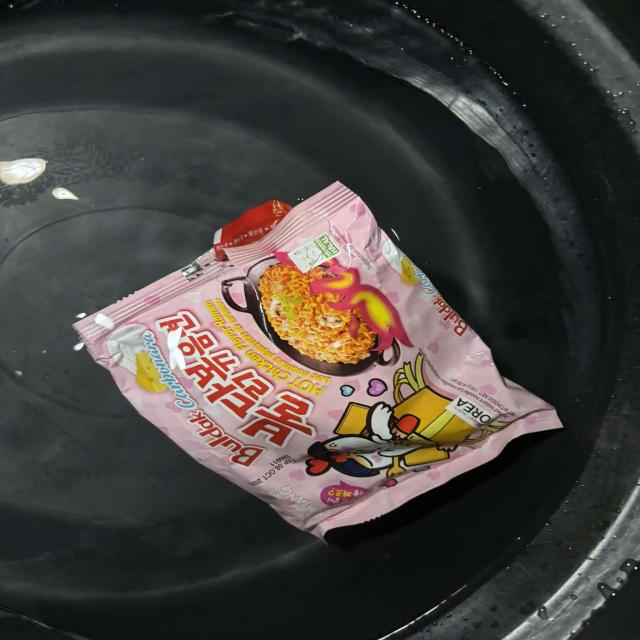Plastic Wrapper: (73, 182, 562, 537)
